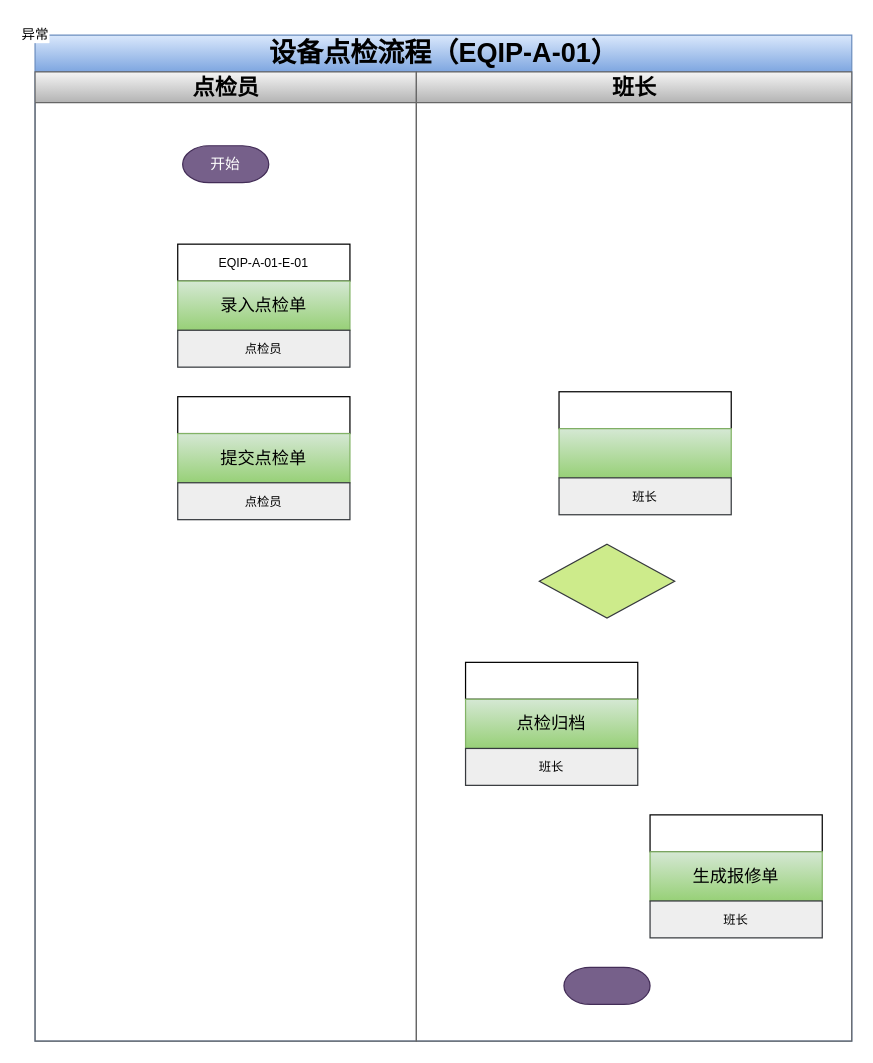
Image size: 873x1063. Some labels were removed from this diagram. Here are the shapes that lost their labels. From the top down, the centre of each, then its label:
(263,414): EQIP-A-01-E-02
(644,410): EQIP-A-01-E-03
(644,452): 确认点检结果
(606,580): 点检结论正常？
(551,680): EQIP-A-01-E-04
(735,833): EQIP-A-01-E-05
(606,985): 结束
